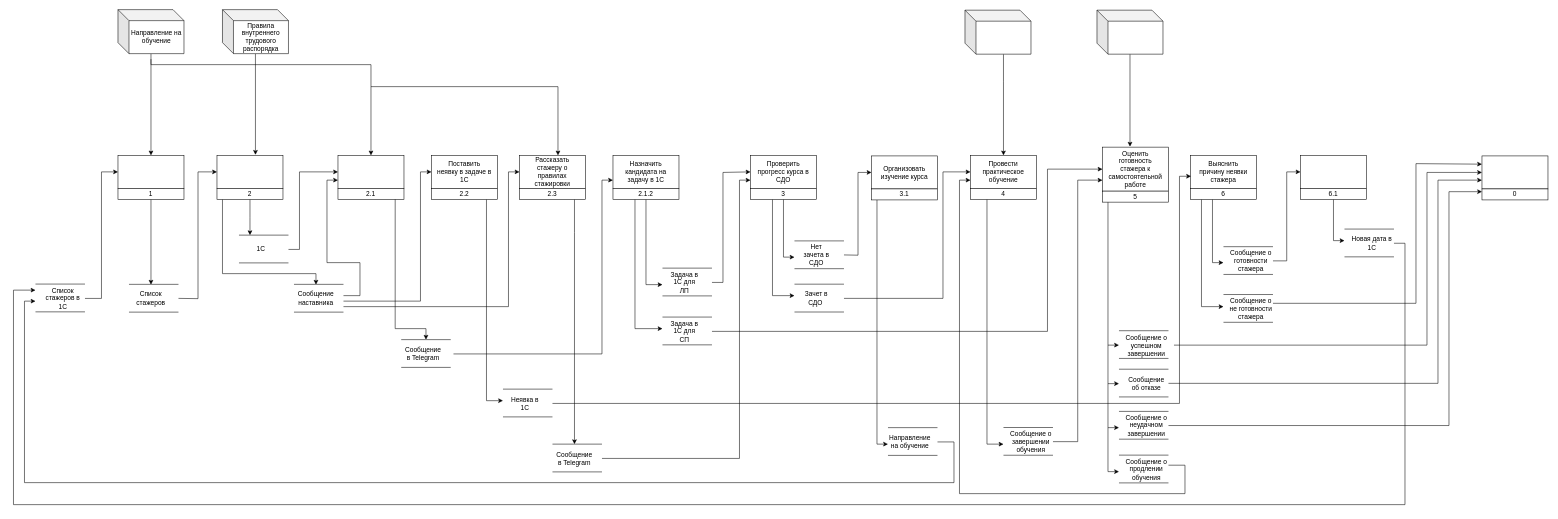
The diagram is 1558 pixels wide and 519 high, and some of its shapes have lost their labels. Here are the shapes that lost their labels. From the top down, the box of each, then its label:
(964, 10, 1031, 54): Регламент и программа обучения
(1096, 10, 1163, 54): Критерии качества обучения
(117, 155, 184, 188): Подготовиться к обучению
(216, 155, 283, 188): Проверить группу обучения
(337, 155, 404, 188): Сообщить об отсутствии задачи в 1С
(1300, 155, 1366, 188): Скорректировать дату обучения в 1С
(1481, 155, 1548, 189): С-3.1
